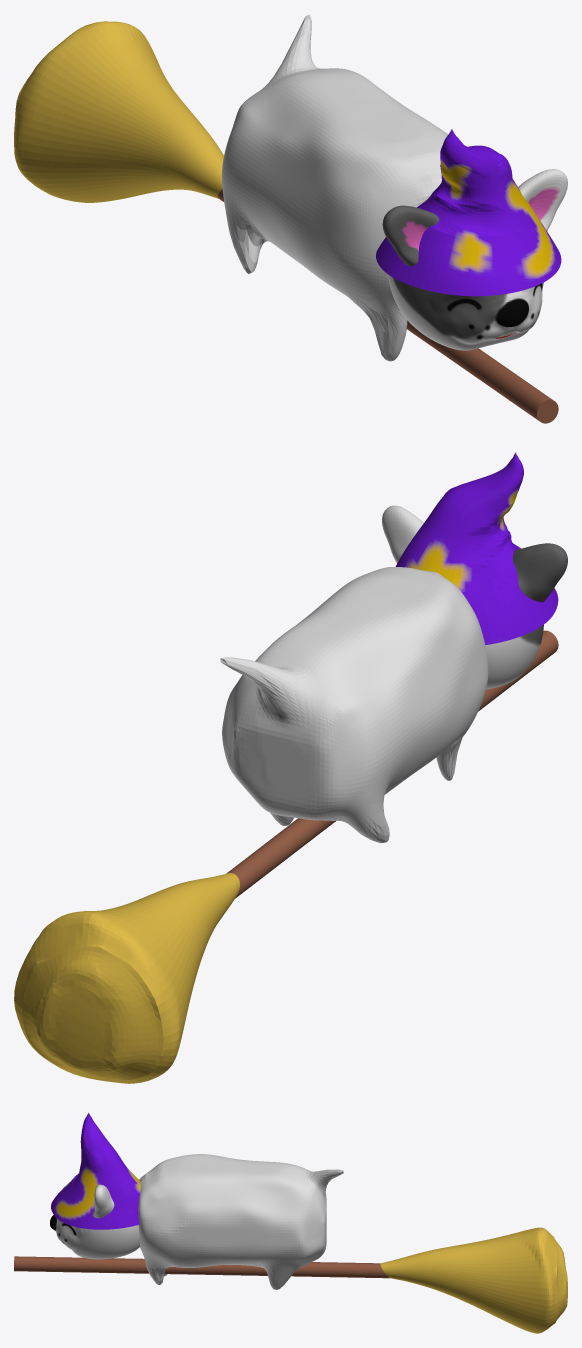
File: dawg-transformed.glb
The picture shows the model from 3 angles, top to bottom: view 1: azimuth 30°, elevation 25°; view 2: azimuth 150°, elevation 25°; view 3: azimuth 270°, elevation 25°; orthographic projection. The views are drawn at different scales.
Parts seen in each view (by area): view 1: Box, Cone 1, Cone, head, Cylinder; view 2: Box, Cone 1, Cone, head, Cylinder; view 3: Box, Cone 1, Cone, Cylinder, head.
Part boxes in pixels (x1,y1,x2,y2): Box: (222,14,448,361); Cone 1: (14,21,223,202); Cone: (376,129,561,296); head: (382,169,567,350); Cylinder: (217,189,558,423); Box: (220,567,488,843); Cone 1: (14,873,239,1083); Cone: (395,452,558,644); head: (382,505,567,689); Cylinder: (226,630,558,898); Box: (138,1154,343,1289); Cone 1: (380,1227,567,1333); Cone: (51,1112,140,1229); Cylinder: (14,1256,389,1278); head: (50,1184,139,1259).
Bounding box in the file's own units: 1.15 × 2.14 × 5.19.
